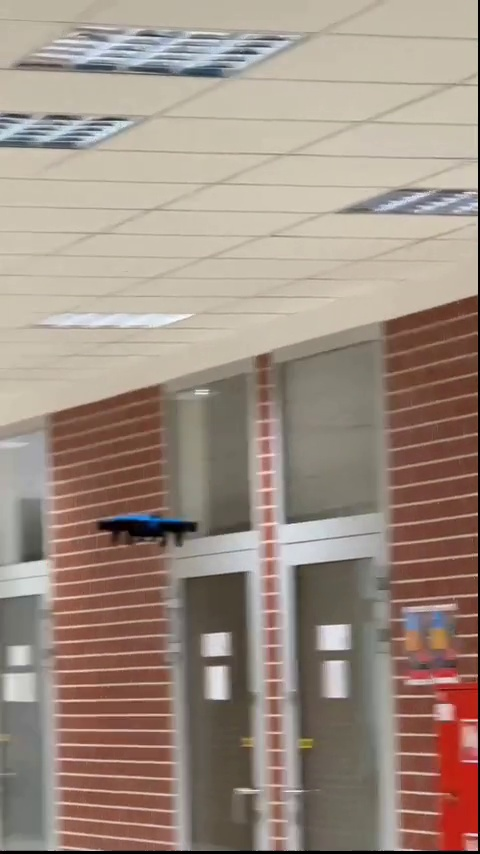drone: (92, 510, 203, 549)
